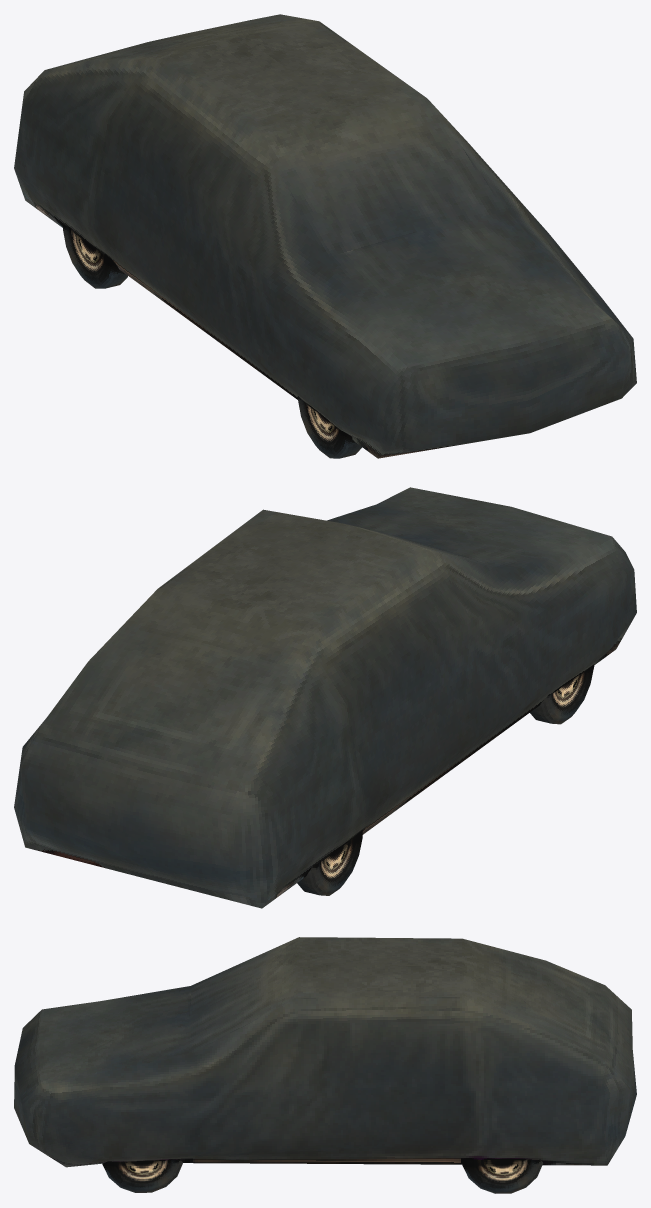
3 views of the same model, one above another, from view 1: azimuth 30°, elevation 25°; view 2: azimuth 150°, elevation 25°; view 3: azimuth 270°, elevation 25° (orthographic). The views are drawn at different scales.
Visible parts, largest first — view 1: covered_car_lp_0; view 2: covered_car_lp_0; view 3: covered_car_lp_0.
Part boxes in pixels (x1,y1,x2,y2): covered_car_lp_0: [14, 14, 636, 458]; covered_car_lp_0: [14, 487, 636, 908]; covered_car_lp_0: [14, 937, 636, 1193].
Bounding box in the file's own units: 1.77 × 1.45 × 4.43.
1 material, 1 textured.
